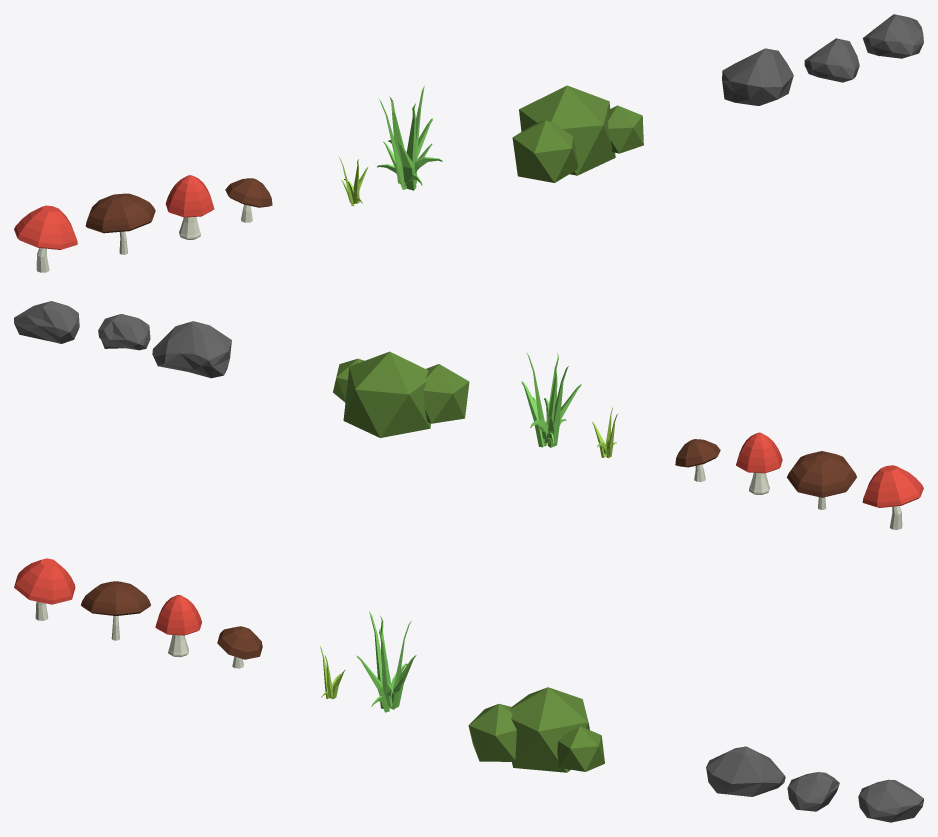
The model's file is nature.fbx.
3 views of the same model, one above another, from view 1: azimuth 30°, elevation 25°; view 2: azimuth 150°, elevation 25°; view 3: azimuth 330°, elevation 25° (orthographic). The views are drawn at different scales.
Parts seen in each view (by area): view 1: bush, rock3, grassPatch2, mushcap3, Circle.002, rock1, rock2, mushcap2, mushcap1; view 2: bush, rock3, mushcap3, rock1, grassPatch2, Circle.002, rock2, mushcap2, mushcap1, grassPatch1; view 3: bush, rock3, rock1, Circle.002, grassPatch2, mushcap3, rock2, mushcap2, mushcap1.
Boxes of the visible parts, x1,y1,x2,y2 form: bush: (512, 85, 643, 182); rock3: (722, 48, 793, 105); grassPatch2: (377, 85, 442, 190); mushcap3: (85, 193, 155, 233); Circle.002: (14, 205, 77, 249); rock1: (862, 14, 923, 58); rock2: (804, 38, 859, 82); mushcap2: (165, 175, 214, 217); mushcap1: (225, 178, 272, 207); bush: (333, 351, 469, 437); rock3: (152, 321, 231, 378); mushcap3: (787, 451, 856, 497); rock1: (14, 301, 79, 343); grassPatch2: (521, 352, 581, 447); Circle.002: (862, 465, 923, 507); rock2: (98, 314, 150, 350); mushcap2: (736, 432, 782, 473); mushcap1: (675, 439, 720, 467); grassPatch1: (592, 406, 617, 458); bush: (468, 687, 604, 772); rock3: (706, 746, 785, 796); rock1: (858, 779, 923, 822); Circle.002: (14, 558, 75, 604); grassPatch2: (356, 611, 416, 712); mushcap3: (81, 581, 150, 615); rock2: (787, 772, 839, 811); mushcap2: (155, 595, 201, 635); mushcap1: (217, 626, 262, 659).
Size of the model in its own units: 2481 by 274 by 248.
